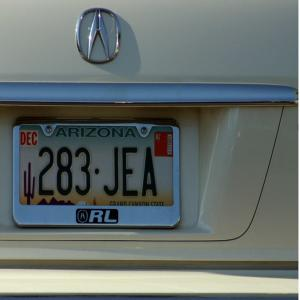Vehicle-registration-plate: (13, 117, 181, 229)
